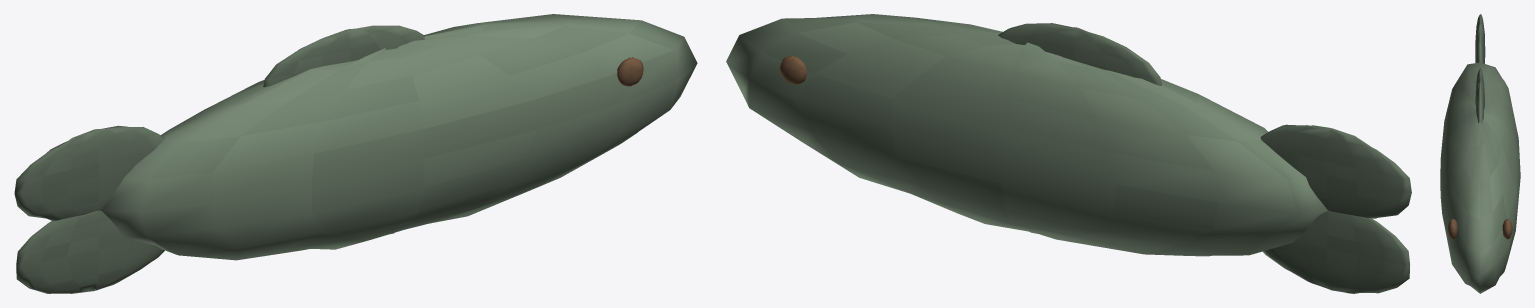
Rendered from Trout.glb.
3 views of the same model, side by side, from view 1: azimuth 30°, elevation 25°; view 2: azimuth 150°, elevation 25°; view 3: azimuth 270°, elevation 25° (orthographic). The views are drawn at different scales.
Visible parts, largest first — view 1: Trout; view 2: Trout; view 3: Trout.
Part boxes in pixels (x1,y1,x2,y2): Trout: (14,14,697,293); Trout: (726,14,1411,293); Trout: (1440,14,1520,293).
Size of what is drawn, in the model's own units: 0.3144 by 0.0949 by 0.0473.
